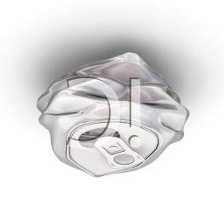can: (30, 43, 193, 182)
